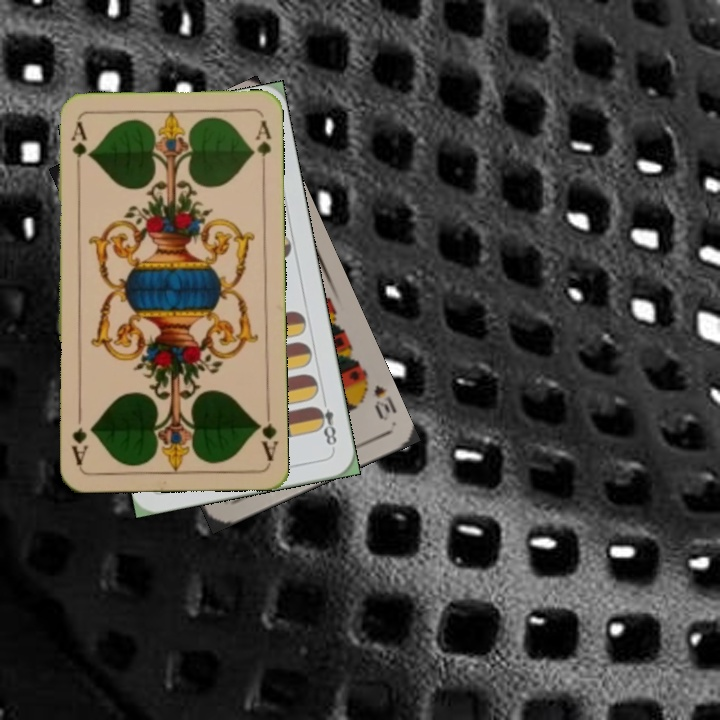E8: (311, 393, 340, 452)
GA: (252, 405, 279, 464), (67, 117, 89, 176)
S10: (358, 371, 399, 424)
